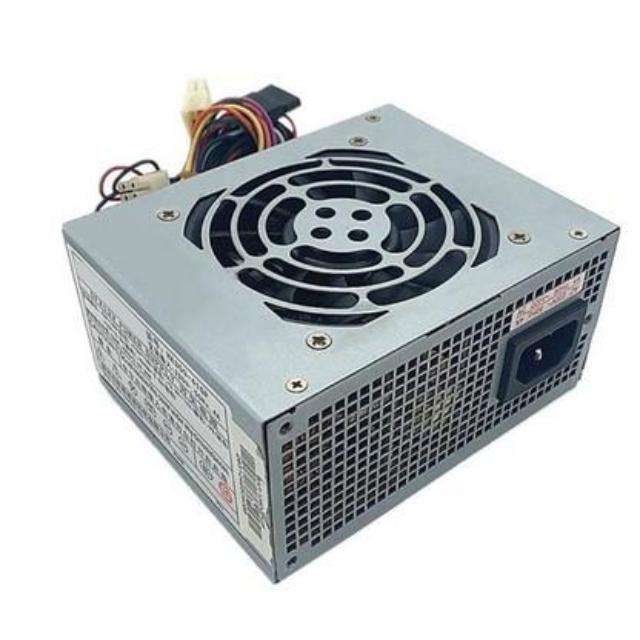PSU: (44, 88, 624, 594)
